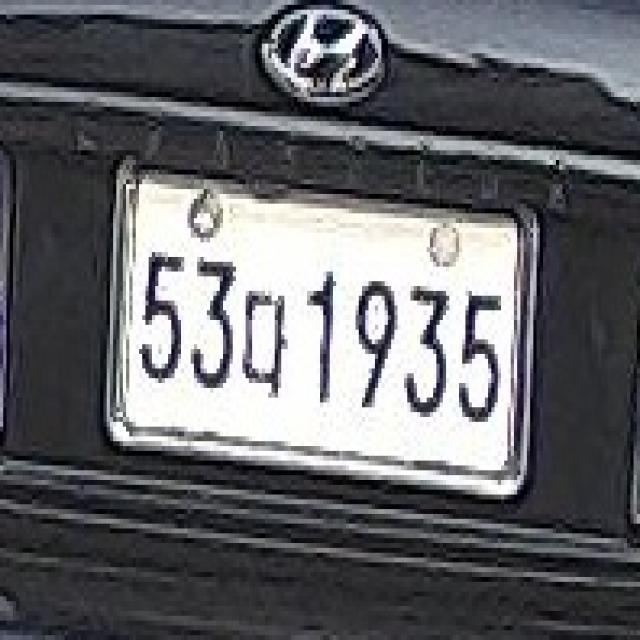1: (297, 257, 346, 417)
3: (408, 262, 450, 426), (197, 248, 239, 402)
5: (459, 276, 504, 432), (136, 247, 184, 388)
9: (346, 266, 401, 426)
da: (239, 281, 294, 407)
license_plate: (110, 150, 530, 509)
